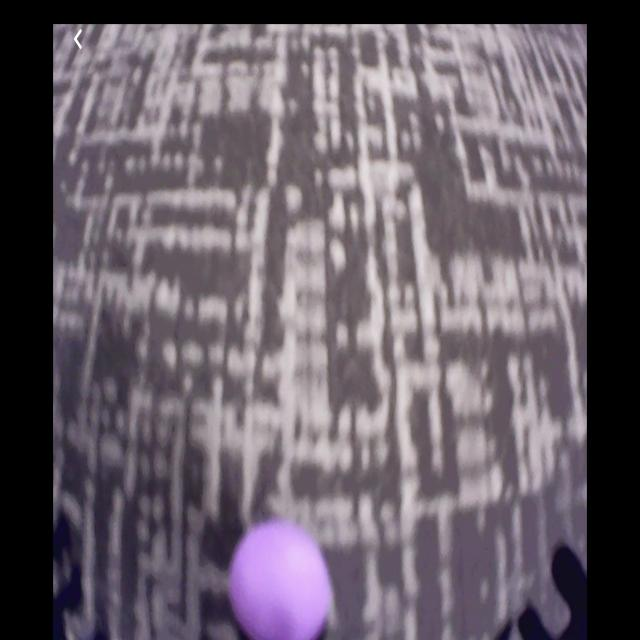ball: (230, 525, 331, 640)
